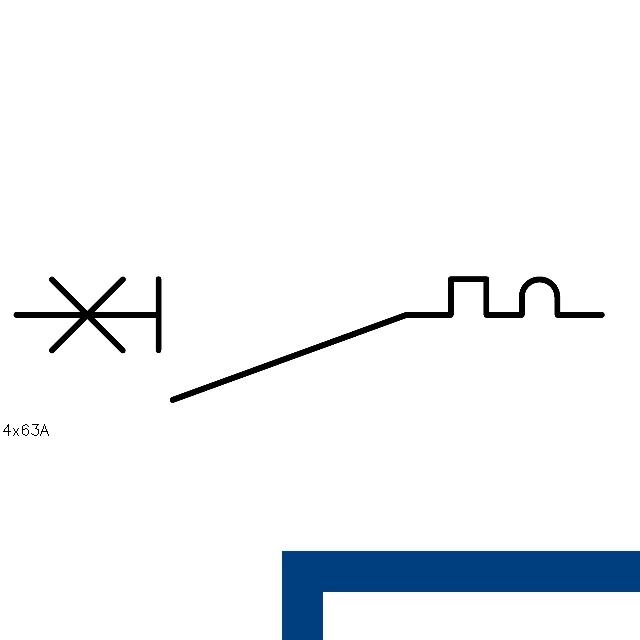interruptor_termomagnetico: (1, 264, 617, 414)
